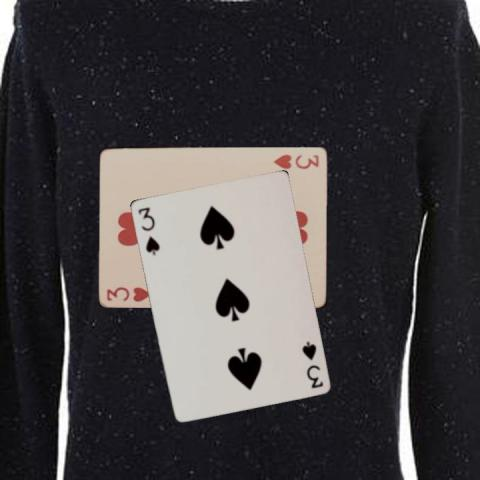3h: (270, 151, 320, 171), (103, 284, 152, 303)
3s: (134, 204, 161, 256), (298, 338, 324, 389)
